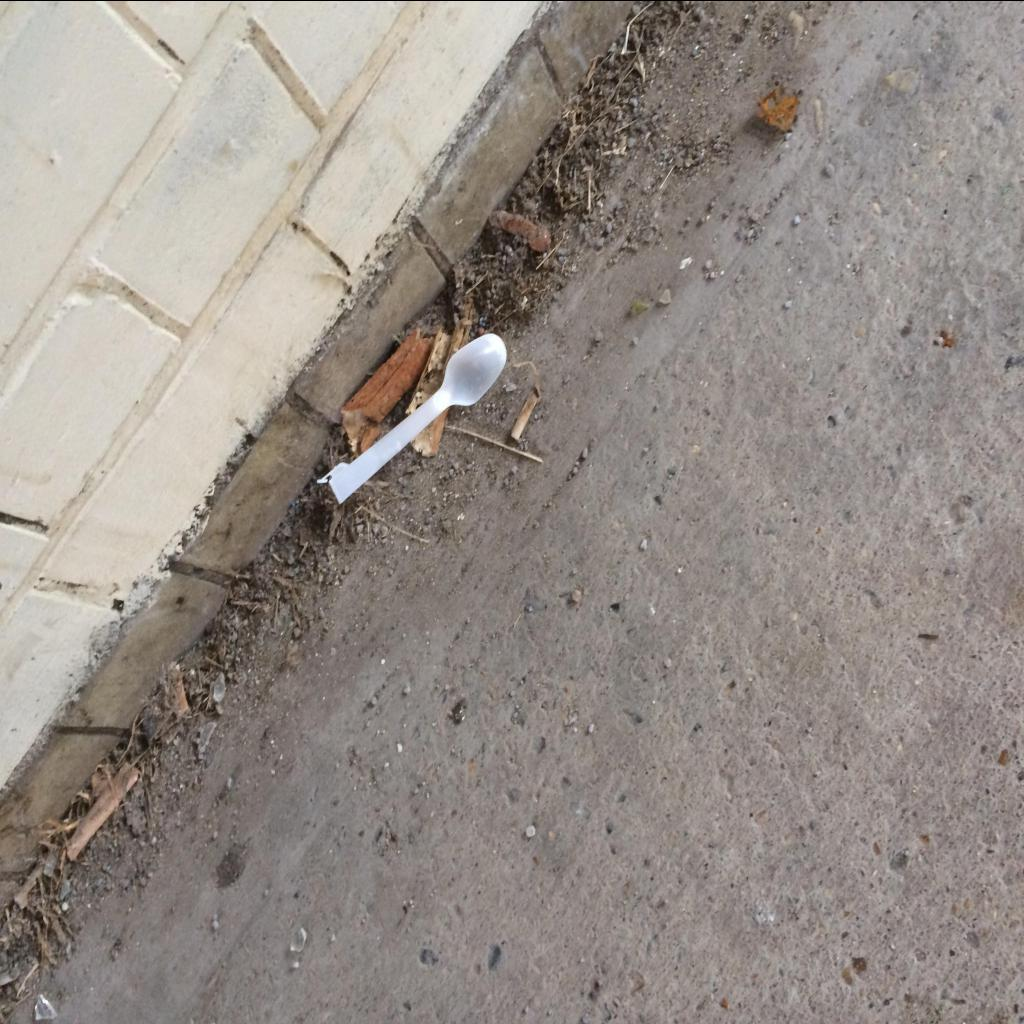Cigarette: (512, 388, 538, 440), (169, 664, 189, 714)
Plastic utensils: (330, 332, 506, 502)
